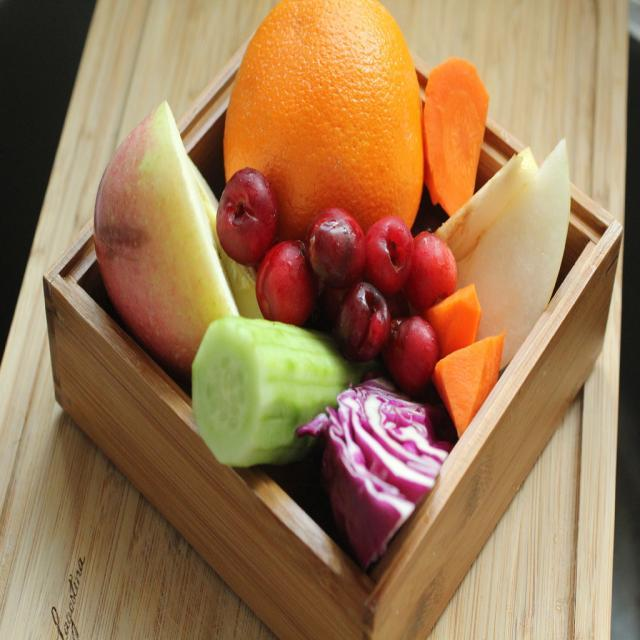Non_Gorille: (8, 0, 640, 640)
